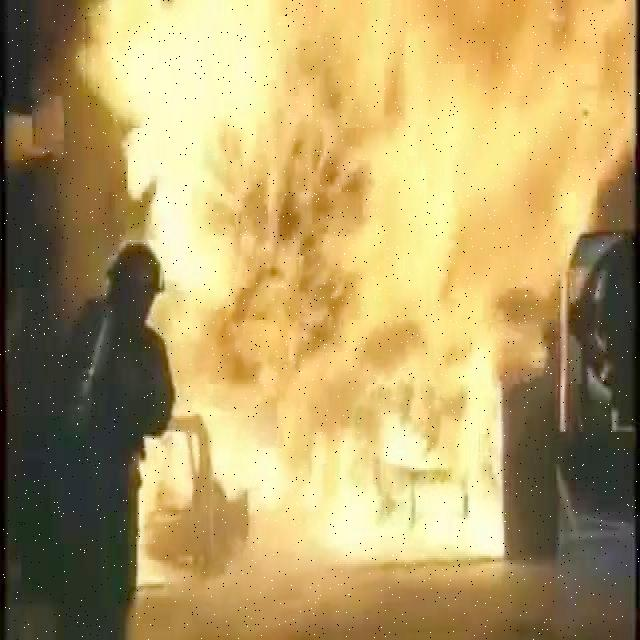fire: (250, 215, 525, 578)
